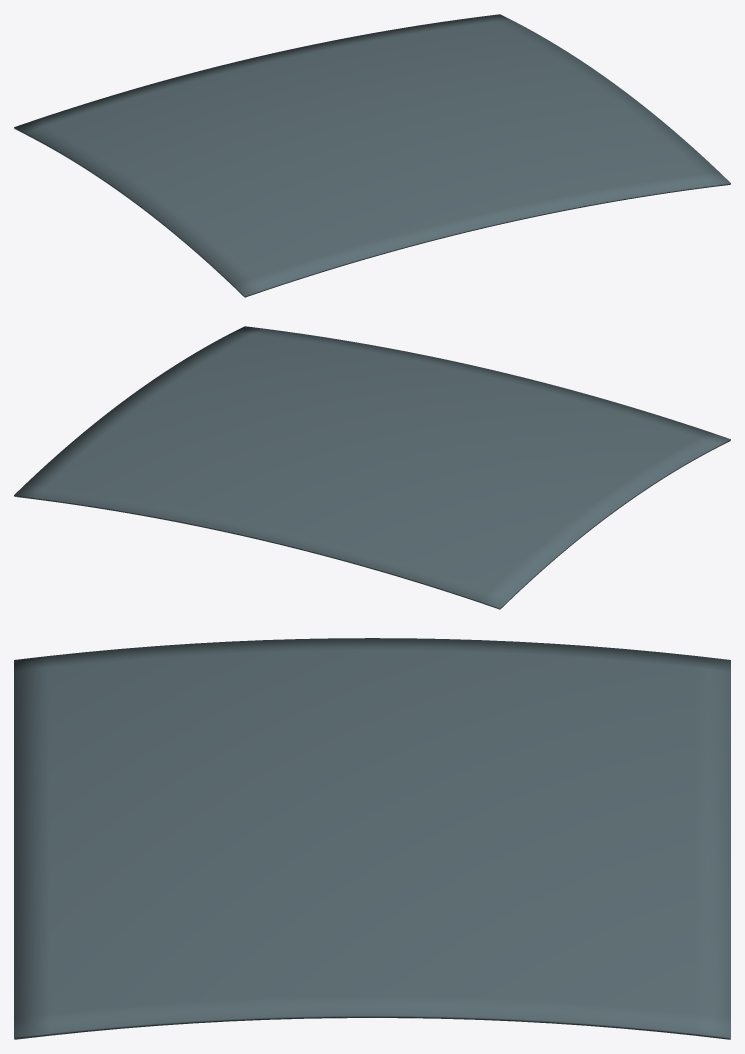
File: SM_MKZ_Moonroof_Glass.fbx
The picture shows the model from 3 angles, top to bottom: view 1: azimuth 30°, elevation 25°; view 2: azimuth 150°, elevation 25°; view 3: azimuth 270°, elevation 25°; orthographic projection. The views are drawn at different scales.
Visible parts, largest first — view 1: SM_MKZ_Moonroof_Glass; view 2: SM_MKZ_Moonroof_Glass; view 3: SM_MKZ_Moonroof_Glass.
Part boxes in pixels (left/top/right/bottom): SM_MKZ_Moonroof_Glass: left=14, top=14, right=730, bottom=297; SM_MKZ_Moonroof_Glass: left=14, top=326, right=730, bottom=609; SM_MKZ_Moonroof_Glass: left=14, top=638, right=730, bottom=1039.
Size of the model in its own units: 118 by 97 by 7.56.
